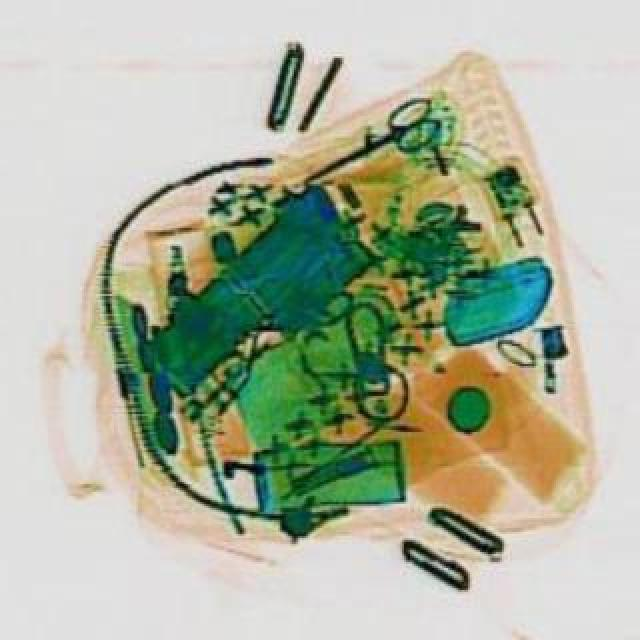pliers: (298, 100, 456, 208)
